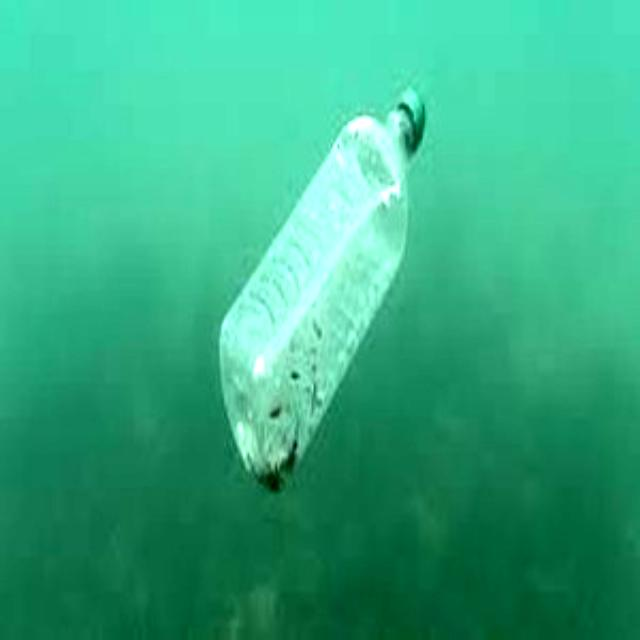Plastic: (221, 84, 431, 478)
